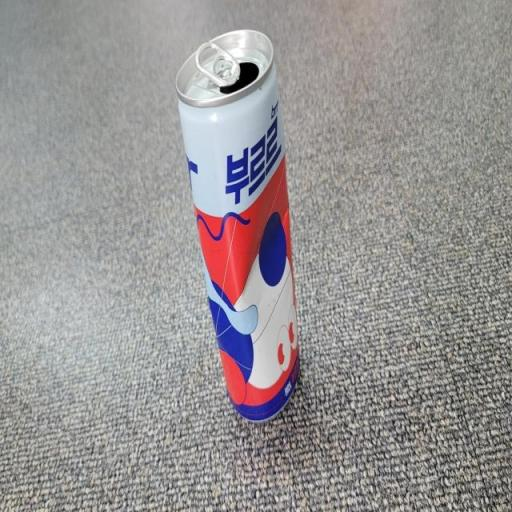metal: (173, 22, 325, 436)
